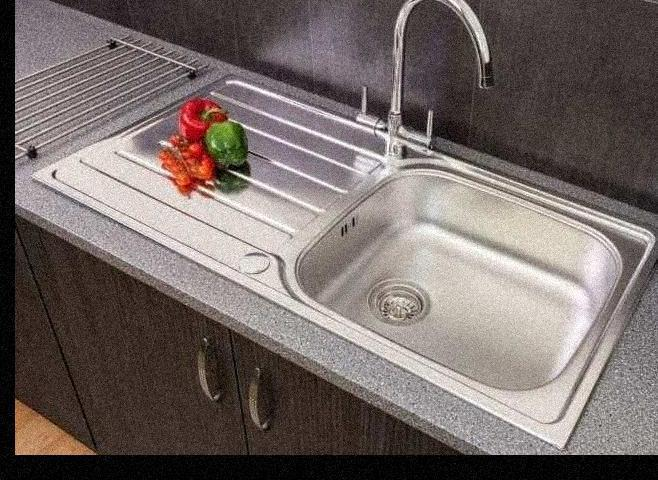Lavaplatos: (81, 0, 658, 437)
